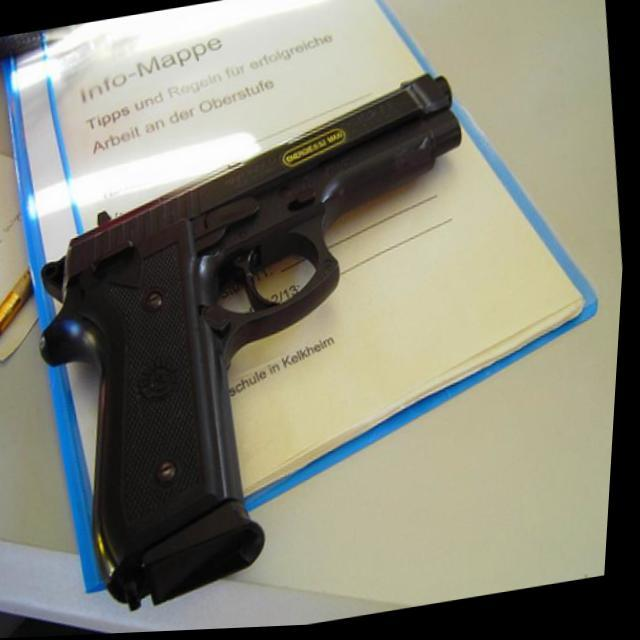weapon: (2, 68, 519, 624)
